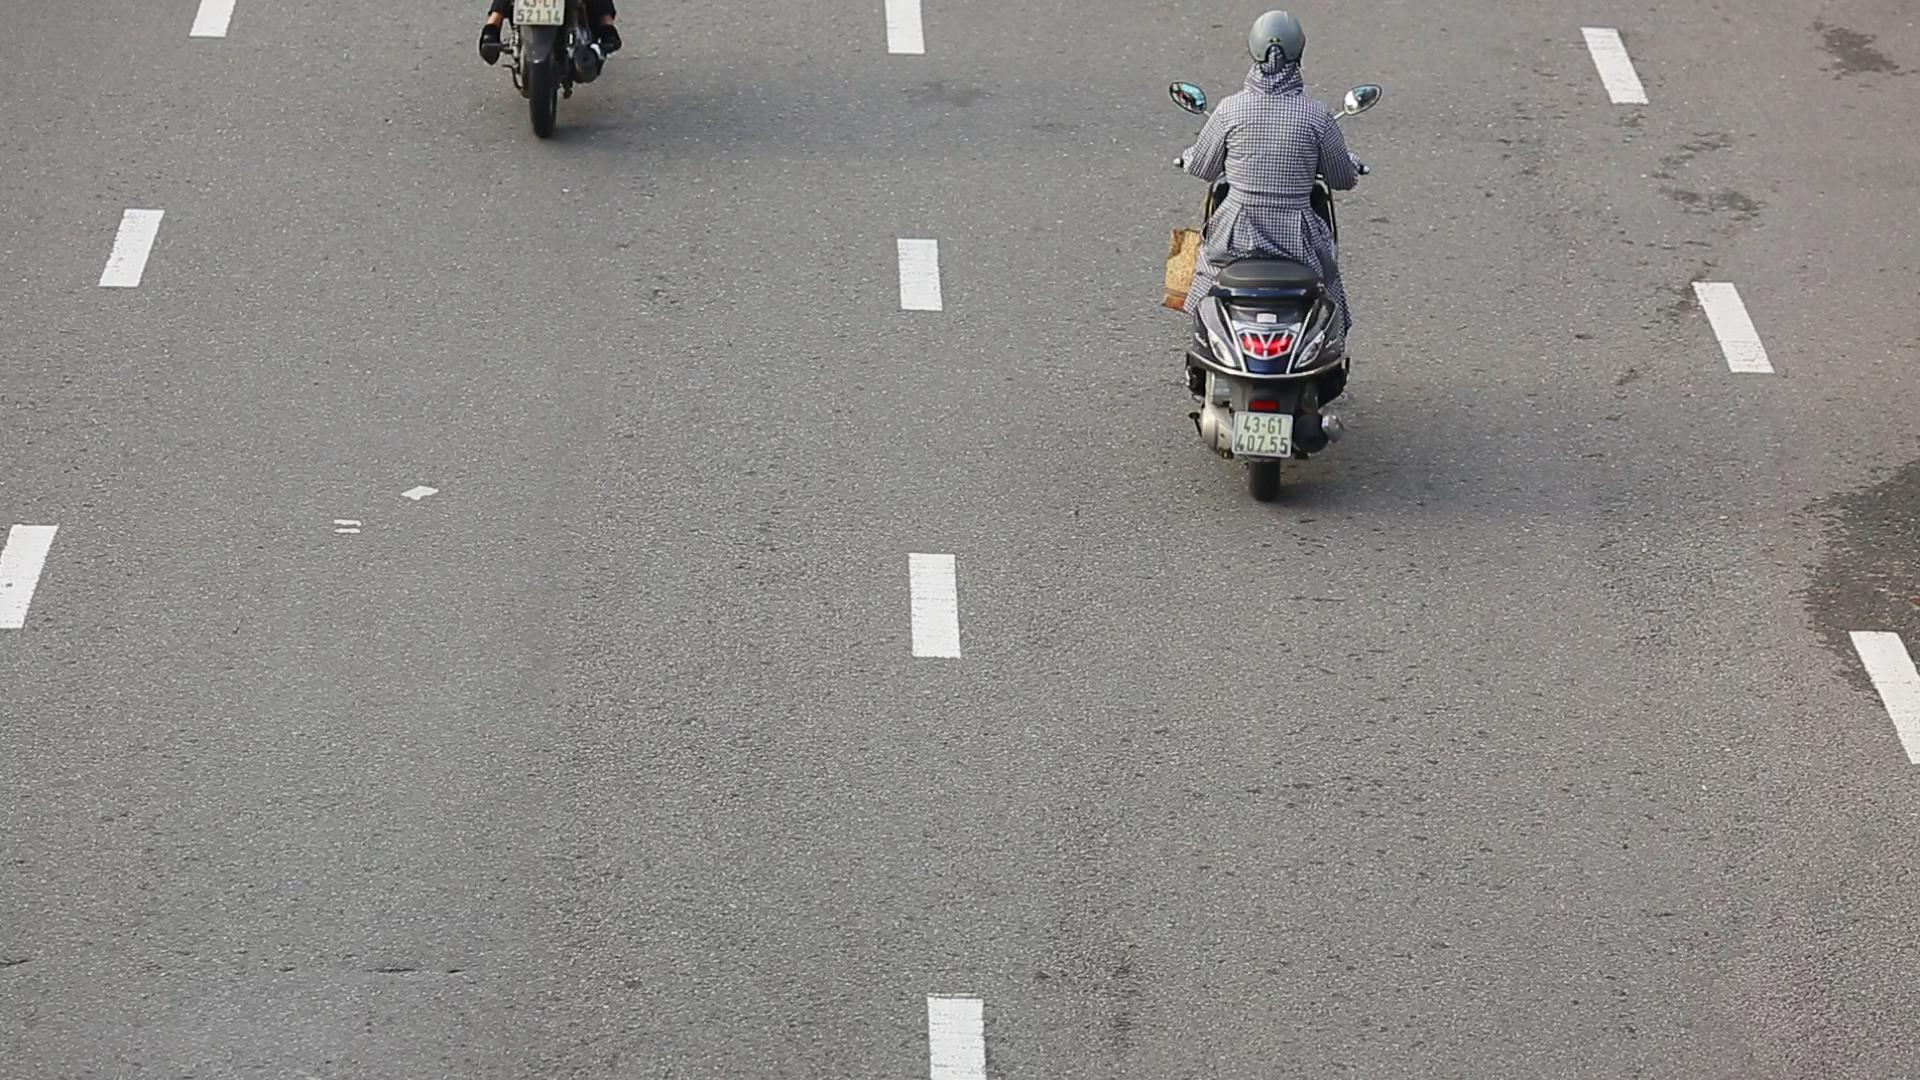motobike: (1147, 7, 1394, 509)
